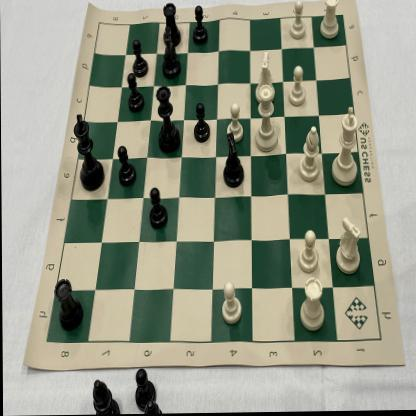black-king: (71, 111, 108, 195)
black-knight: (219, 131, 247, 190), (158, 27, 184, 81)
black-pawn: (145, 184, 169, 231), (115, 141, 137, 190), (191, 101, 213, 145), (189, 3, 210, 48), (125, 72, 145, 116), (130, 38, 149, 80)
black-queen: (153, 86, 184, 158)
black-rook: (53, 269, 85, 333), (162, 0, 184, 47)
white-bishop: (295, 123, 323, 186)
white-king: (330, 106, 364, 192)
white-pawn: (220, 278, 244, 329), (296, 228, 320, 276), (285, 64, 308, 111), (225, 100, 247, 145), (288, 0, 309, 42)
white-queen: (251, 84, 282, 155)
white-rook: (333, 214, 365, 278), (297, 275, 329, 335), (252, 47, 278, 105), (317, 0, 345, 42)
